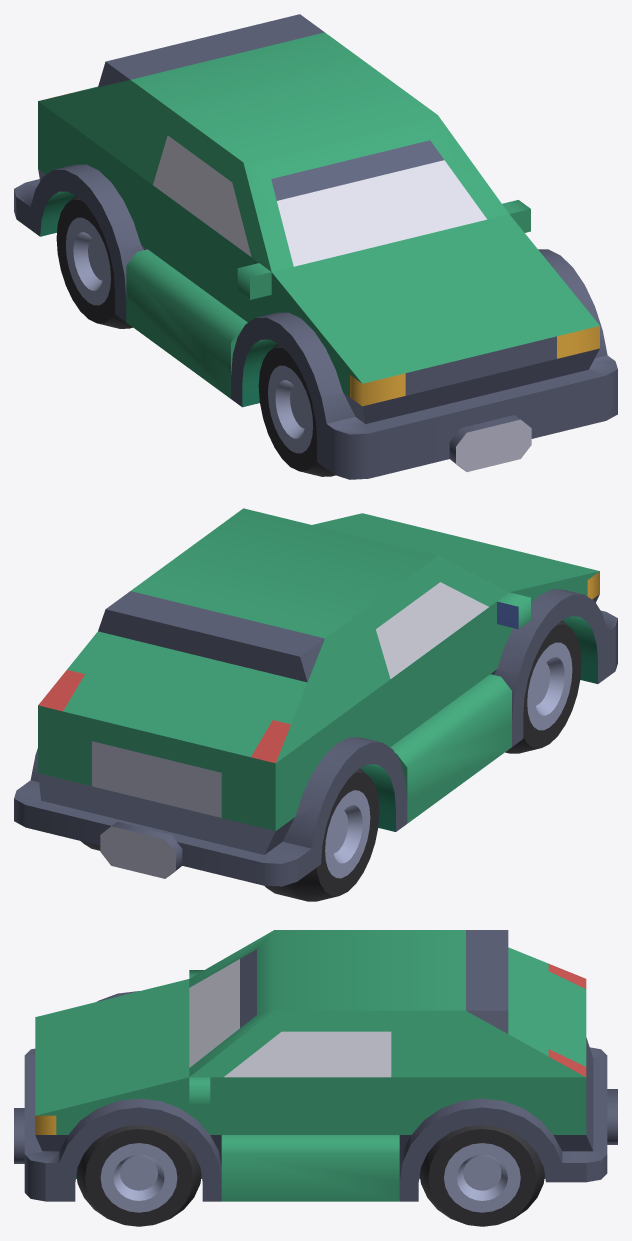
The model's file is vehicle-hatchback-green.glb.
The picture shows the model from 3 angles, top to bottom: view 1: azimuth 30°, elevation 25°; view 2: azimuth 150°, elevation 25°; view 3: azimuth 270°, elevation 25°; orthographic projection. The views are drawn at different scales.
Parts seen in each view (by area): view 1: body, wheel-back-right, wheel-front-right; view 2: body, wheel-back-right, wheel-front-right; view 3: body, wheel-back-left, wheel-front-left.
Part boxes in pixels (x1,y1,x2,y2): body: (14, 14, 617, 479); wheel-back-right: (56, 196, 132, 328); wheel-front-right: (258, 343, 335, 476); body: (14, 508, 617, 886); wheel-back-right: (264, 768, 379, 901); wheel-front-right: (505, 620, 581, 753); body: (14, 930, 617, 1201); wheel-back-left: (419, 1124, 544, 1226); wheel-front-left: (76, 1124, 201, 1226).
Bounding box in the file's own units: 1.3 × 1.1 × 2.85.
Materials: 1 (1 with a texture image).
